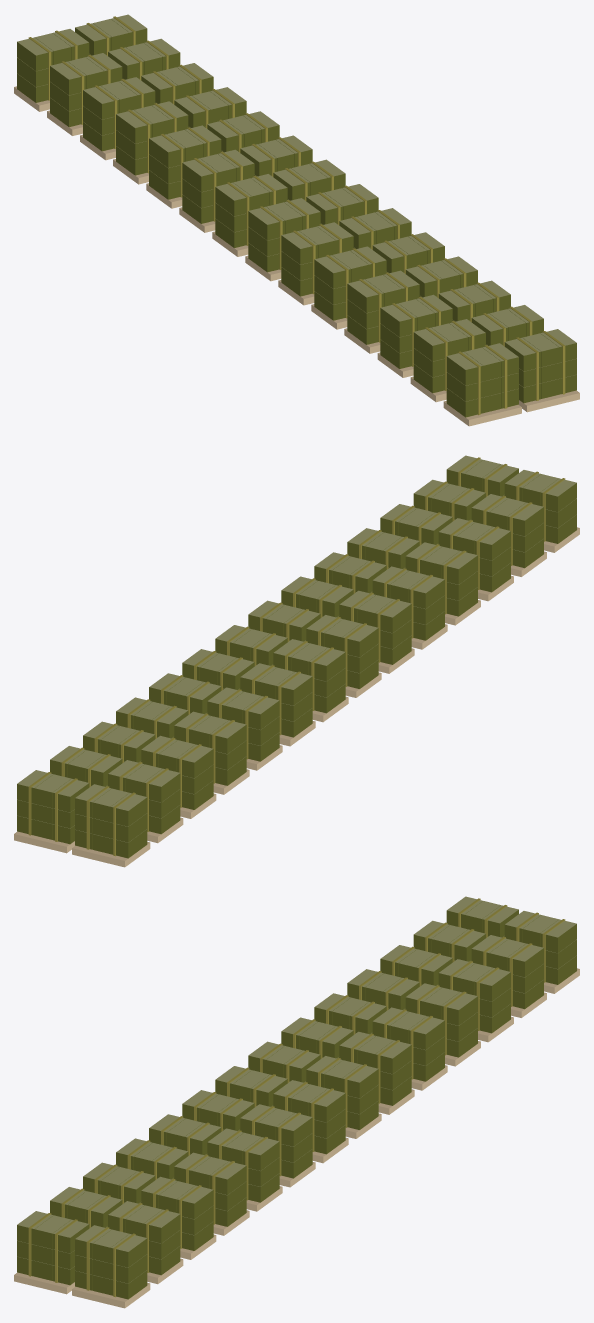
File: SM_CargaMunicion_Lleno_LOD0.fbx
3 views of the same model, one above another, from view 1: azimuth 30°, elevation 25°; view 2: azimuth 150°, elevation 25°; view 3: azimuth 330°, elevation 25° (orthographic).
Visible parts, largest first — view 1: SM_carga_vagon_v0_LOD0; view 2: SM_carga_vagon_v0_LOD0; view 3: SM_carga_vagon_v0_LOD0.
Boxes of the visible parts, <box> form: SM_carga_vagon_v0_LOD0: <box>14,14,579,426</box>; SM_carga_vagon_v0_LOD0: <box>14,455,579,867</box>; SM_carga_vagon_v0_LOD0: <box>14,896,579,1308</box>.
Bounding box in the file's own units: 2.53 × 1.19 × 17.9.
